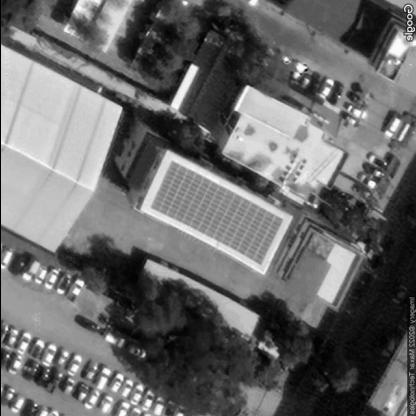solar-pv-panel: (151, 161, 283, 265)
